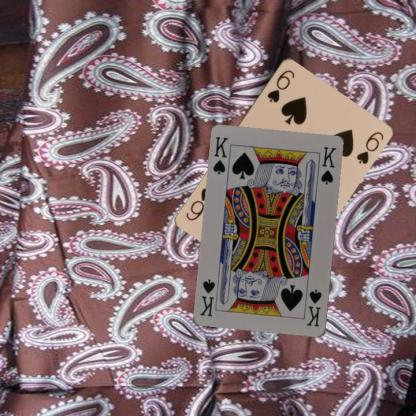6s: (264, 66, 296, 104)
Ks: (210, 135, 230, 176), (304, 287, 323, 328)
